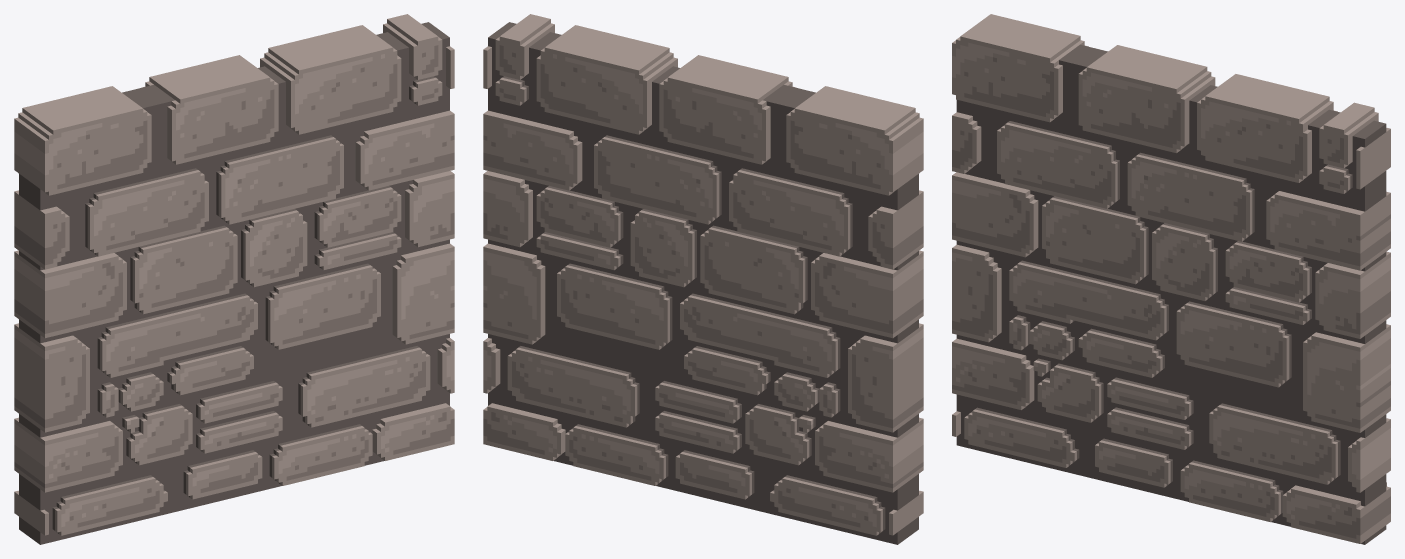
Rendered from GGJ walls 2.1 1.obj.
The picture shows the model from 3 angles, left to right: view 1: azimuth 30°, elevation 25°; view 2: azimuth 150°, elevation 25°; view 3: azimuth 330°, elevation 25°; orthographic projection.
Bounding box in the file's own units: 10 × 9.7 × 1.3.
Materials: 1 (1 with a texture image).
